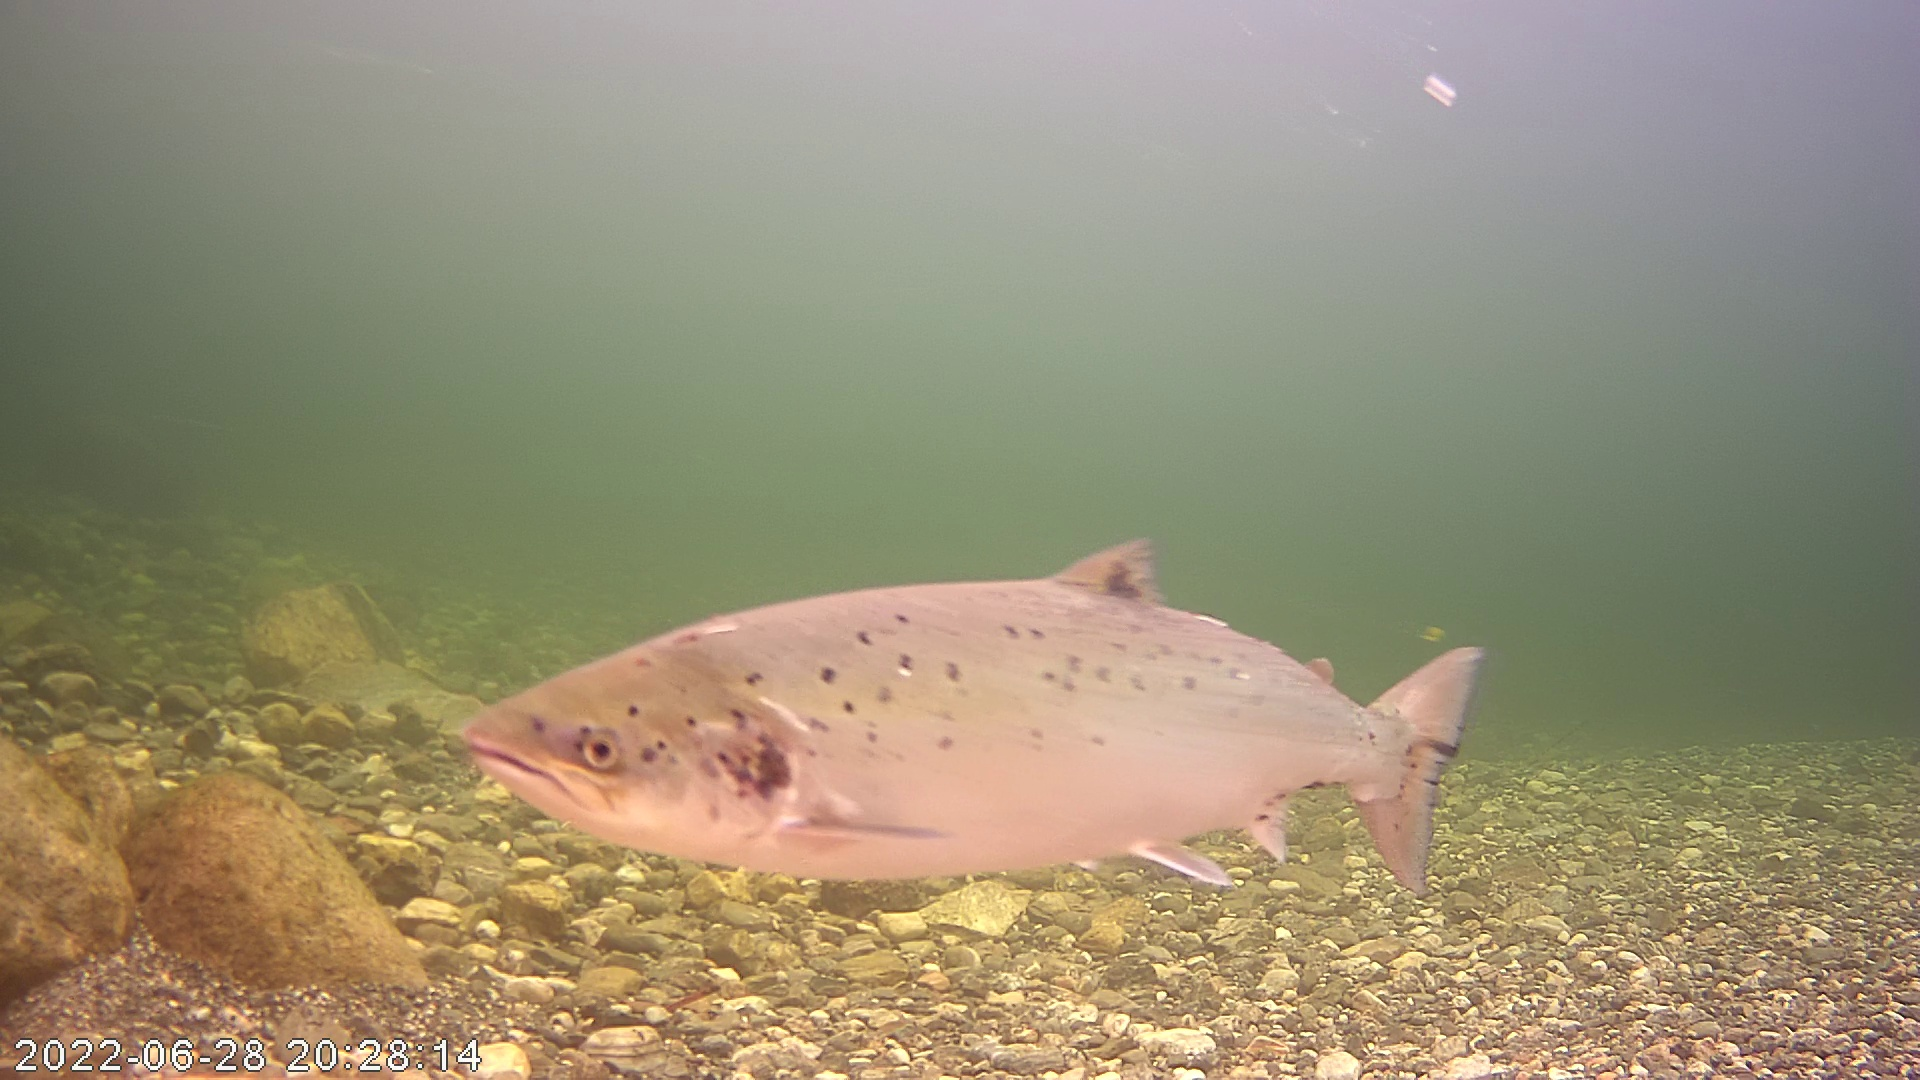salmon: (465, 491, 1491, 914)
